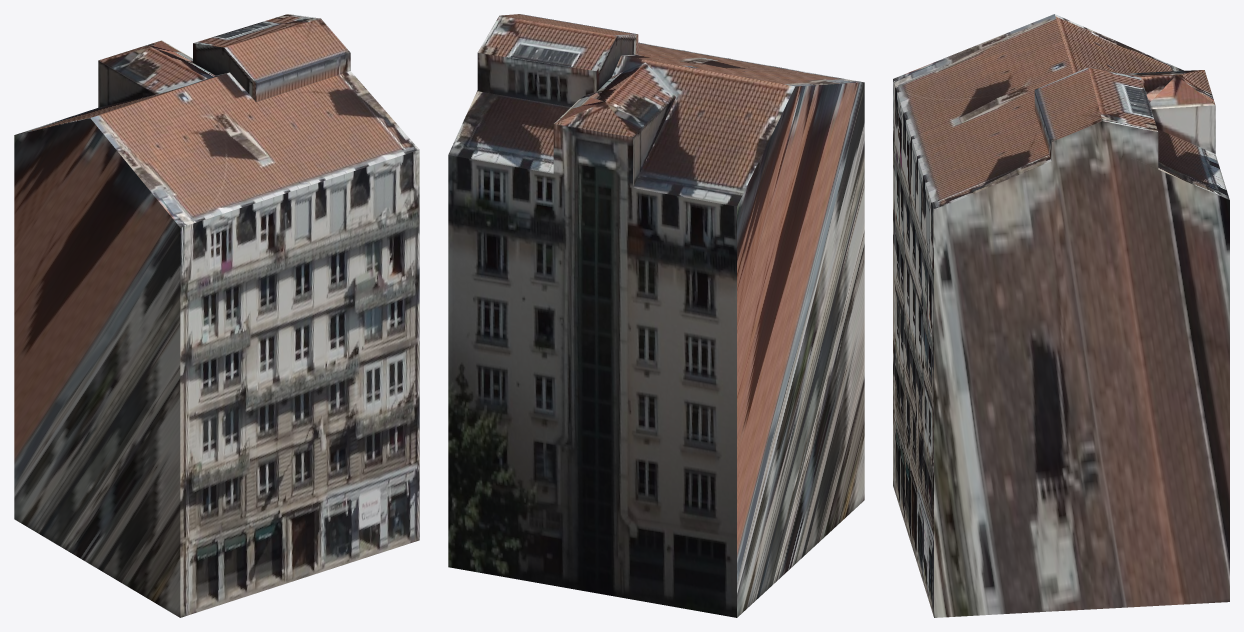
The picture shows the model from 3 angles, left to right: view 1: azimuth 30°, elevation 25°; view 2: azimuth 150°, elevation 25°; view 3: azimuth 270°, elevation 25°; orthographic projection. The views are drawn at different scales.
Parts seen in each view (by area): view 1: Z_UP; view 2: Z_UP; view 3: Z_UP.
Part boxes in pixels (x1,y1,x2,y2): Z_UP: [14, 14, 419, 617]; Z_UP: [448, 14, 864, 617]; Z_UP: [893, 14, 1229, 617].
Bounding box in the file's own units: 18.37 × 29.14 × 18.2.
Materials: 2 (1 with a texture image).
